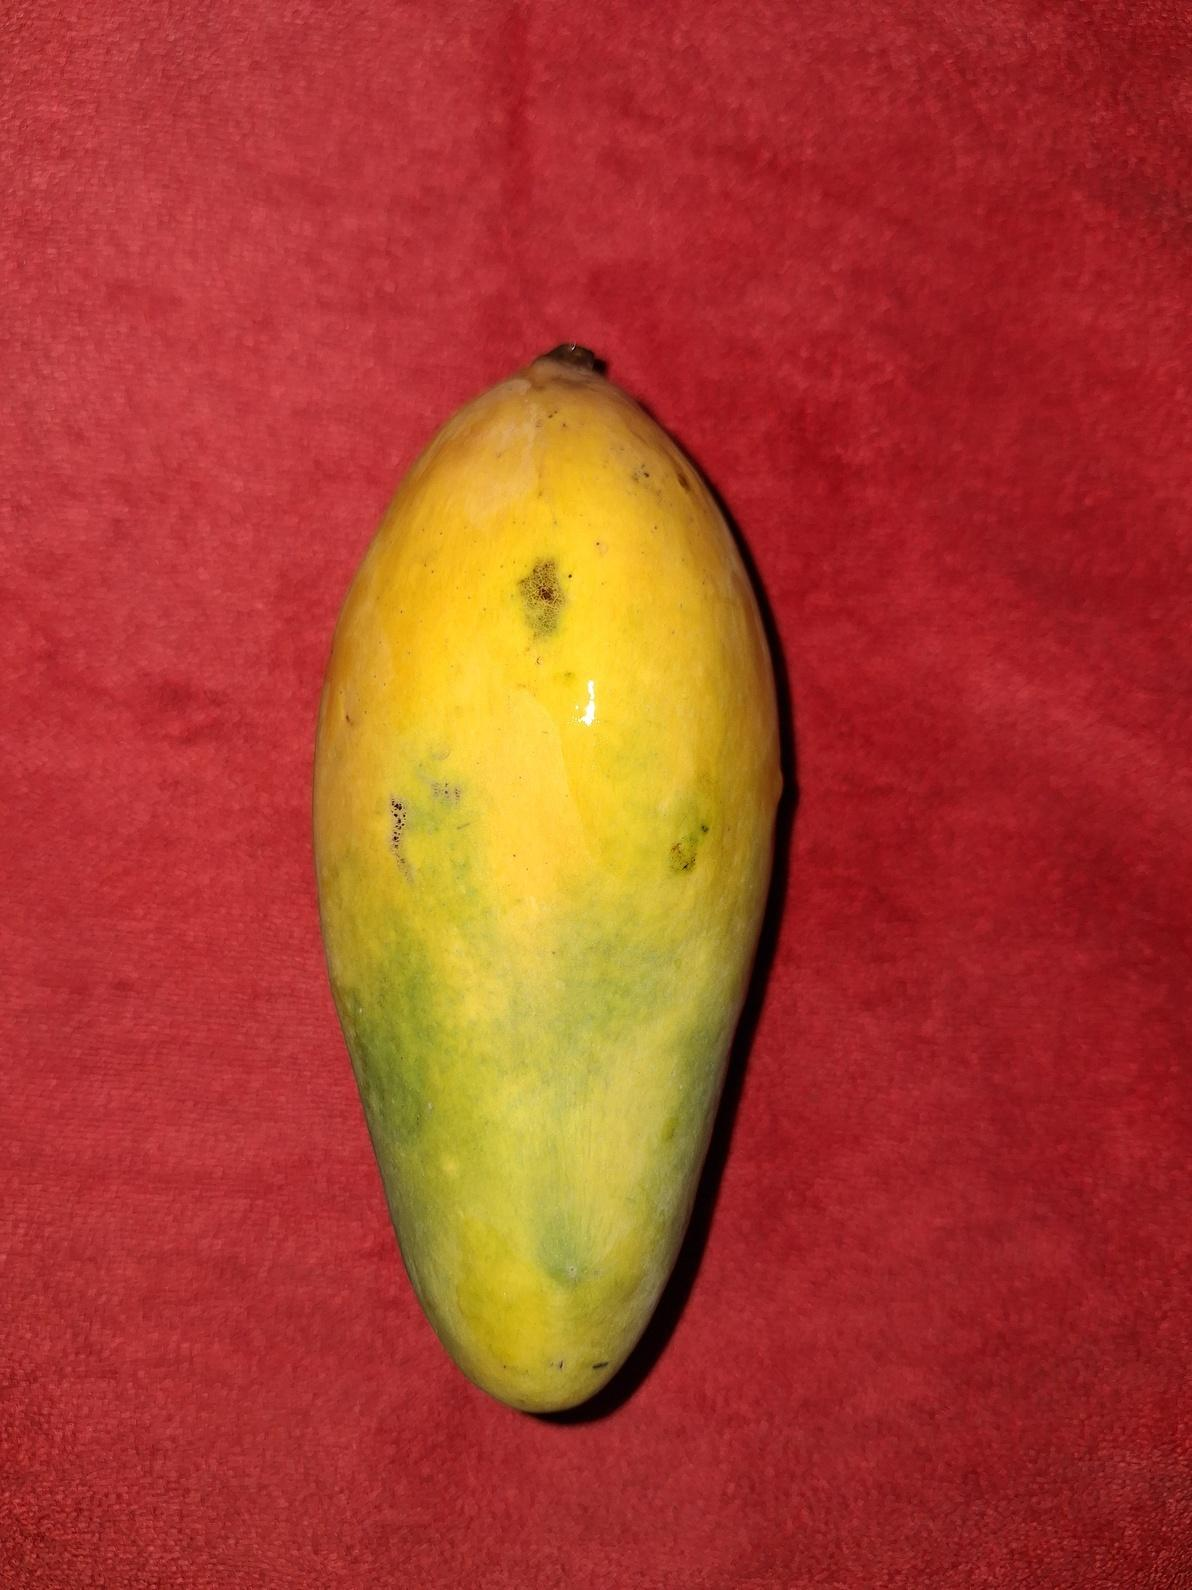mango: (311, 341, 784, 1413)
